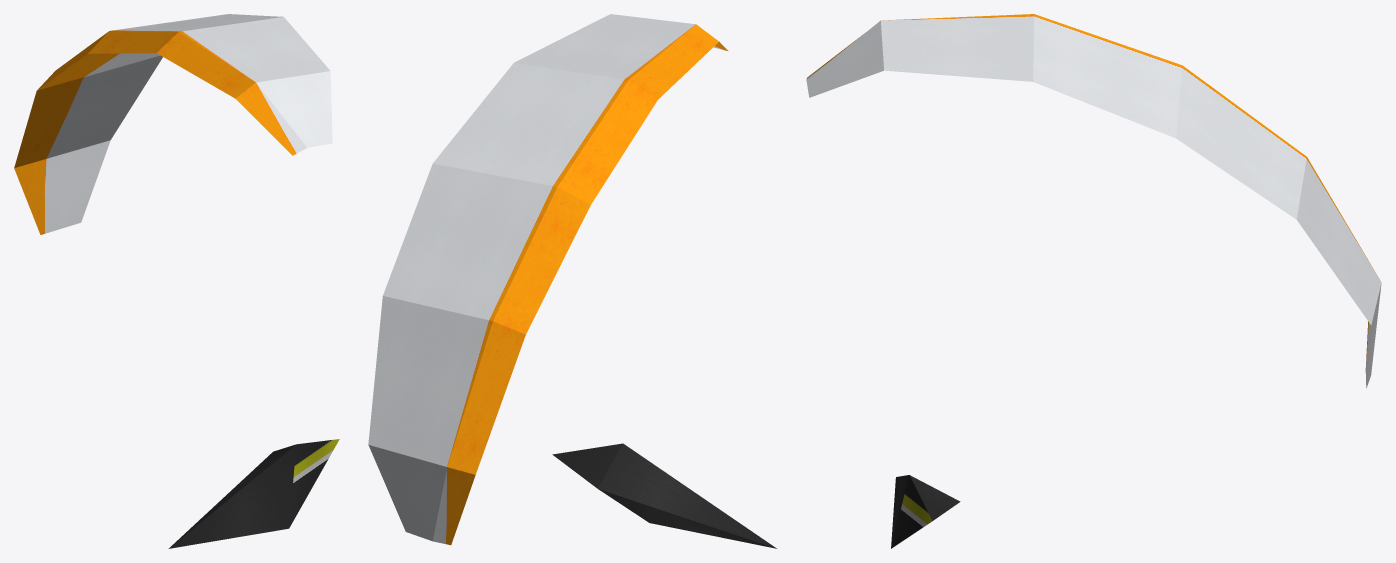
Rendered from paraglider-yellow-thermal-cbj_LOD03.gltf.
3 renders of one model, left to right at view 1: azimuth 30°, elevation 25°; view 2: azimuth 150°, elevation 25°; view 3: azimuth 270°, elevation 25°, orthographic. The views are drawn at different scales.
Visible parts, largest first — view 1: harness-plus00; view 2: harness-plus00; view 3: harness-plus00.
Boxes of the visible parts, x1,y1,x2,y2 form: harness-plus00: (14,14,339,548); harness-plus00: (368,14,776,548); harness-plus00: (806,14,1381,548).
Size of what is drawn, in the model's own units: 3.42 by 8 by 8.18.
